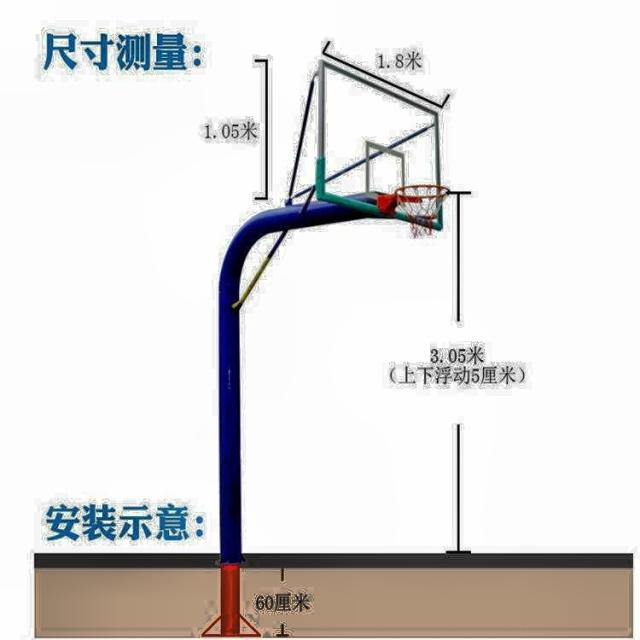rim: (394, 183, 448, 236)
